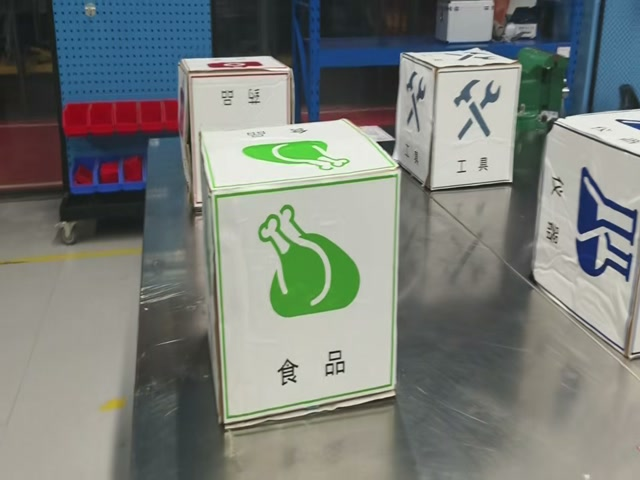Cube_food: (197, 118, 399, 197)
Cube_ins: (546, 111, 638, 162)
Cube_medicine: (178, 56, 292, 79), (176, 56, 290, 79)
Cube_tool: (407, 48, 522, 76)
